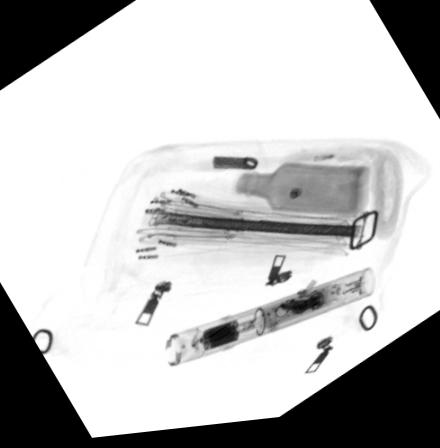Baton: (164, 274, 378, 373)
